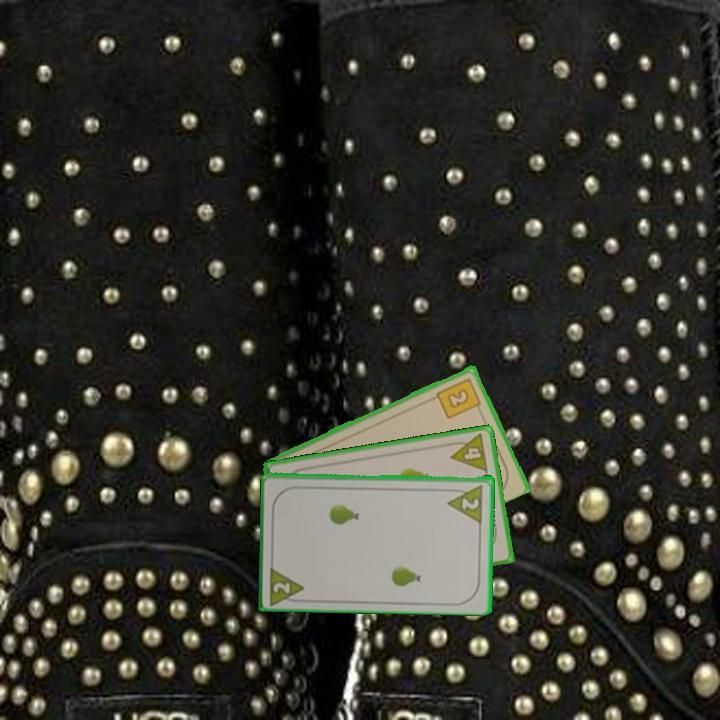2b: (433, 374, 484, 421)
2p: (266, 561, 308, 606), (445, 481, 486, 524)
4p: (445, 430, 490, 475)
